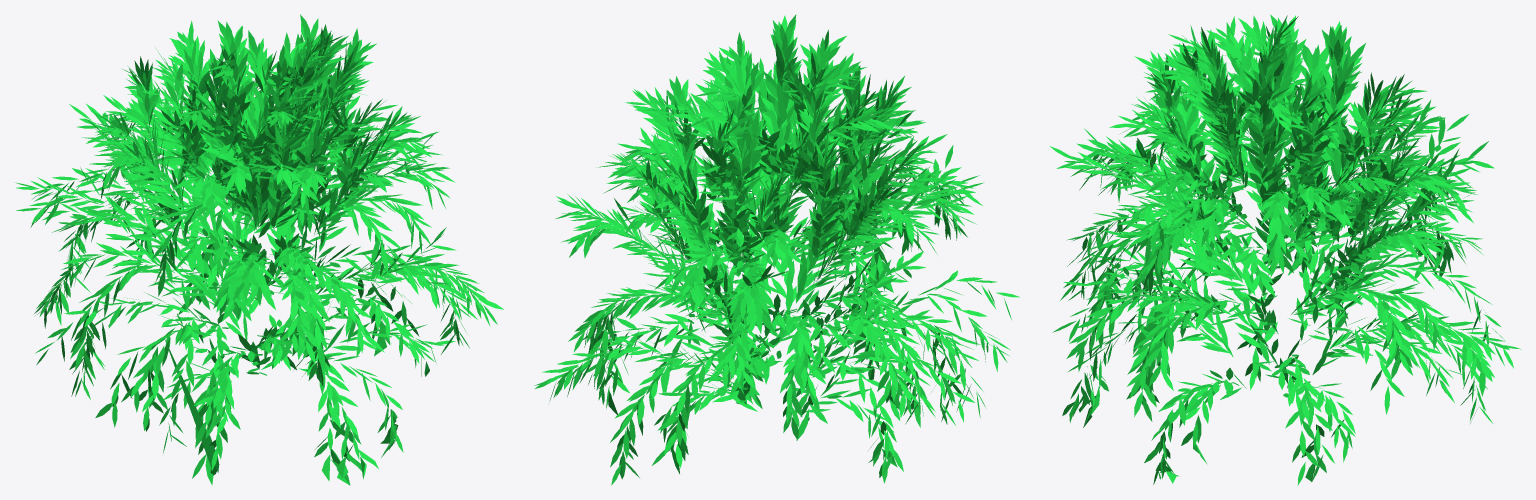
Rendered from greenbush.fbx.
3 views of the same model, side by side, from view 1: azimuth 30°, elevation 25°; view 2: azimuth 150°, elevation 25°; view 3: azimuth 270°, elevation 25° (orthographic).
Parts seen in each view (by area): view 1: leaves.001; view 2: leaves.001; view 3: leaves.001.
Boxes of the visible parts, <box> form: leaves.001: <box>15,14,503,485</box>; leaves.001: <box>534,14,1019,485</box>; leaves.001: <box>1049,14,1521,485</box>.
Bounding box in the file's own units: 578 × 603 × 605.
